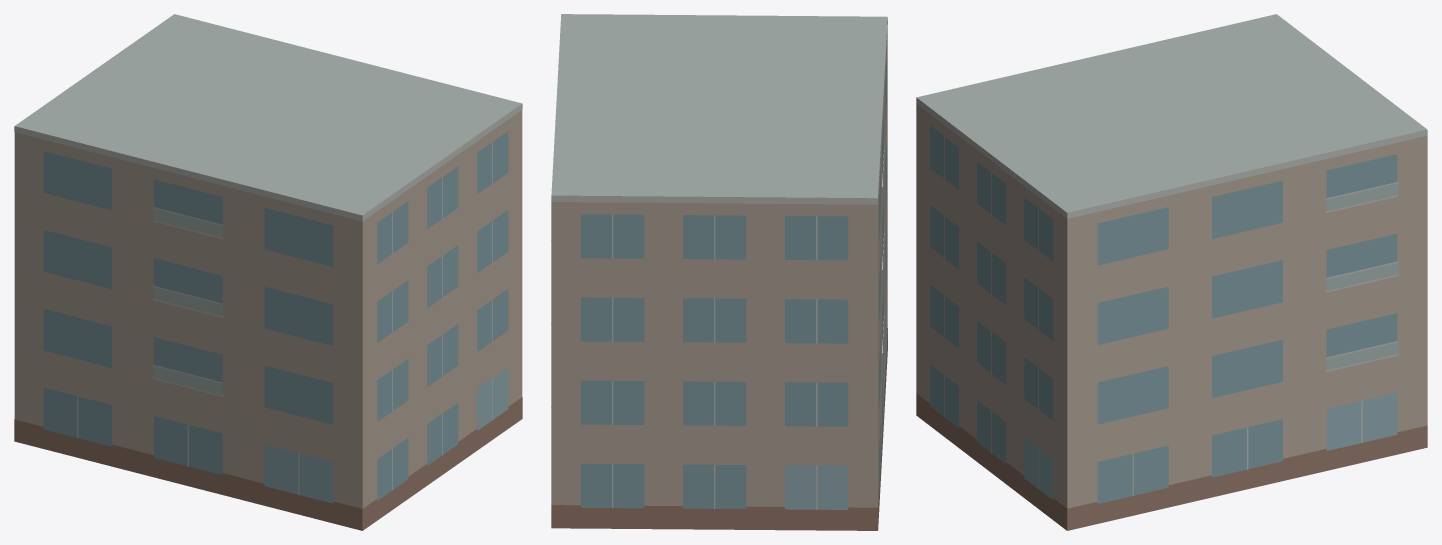
The model's file is survey-upis-32713778.glb.
3 views of the same model, side by side, from view 1: azimuth 30°, elevation 25°; view 2: azimuth 150°, elevation 25°; view 3: azimuth 270°, elevation 25° (orthographic). The views are drawn at different scales.
Parts seen in each view (by area): view 1: survey-upis-32713778.tmp; view 2: survey-upis-32713778.tmp; view 3: survey-upis-32713778.tmp.
Boxes of the visible parts, x1,y1,x2,y2 form: survey-upis-32713778.tmp: (14,14,522,530); survey-upis-32713778.tmp: (551,14,887,530); survey-upis-32713778.tmp: (916,14,1427,530).
Size of the model in its own units: 17.04 by 12.7 by 18.51.
